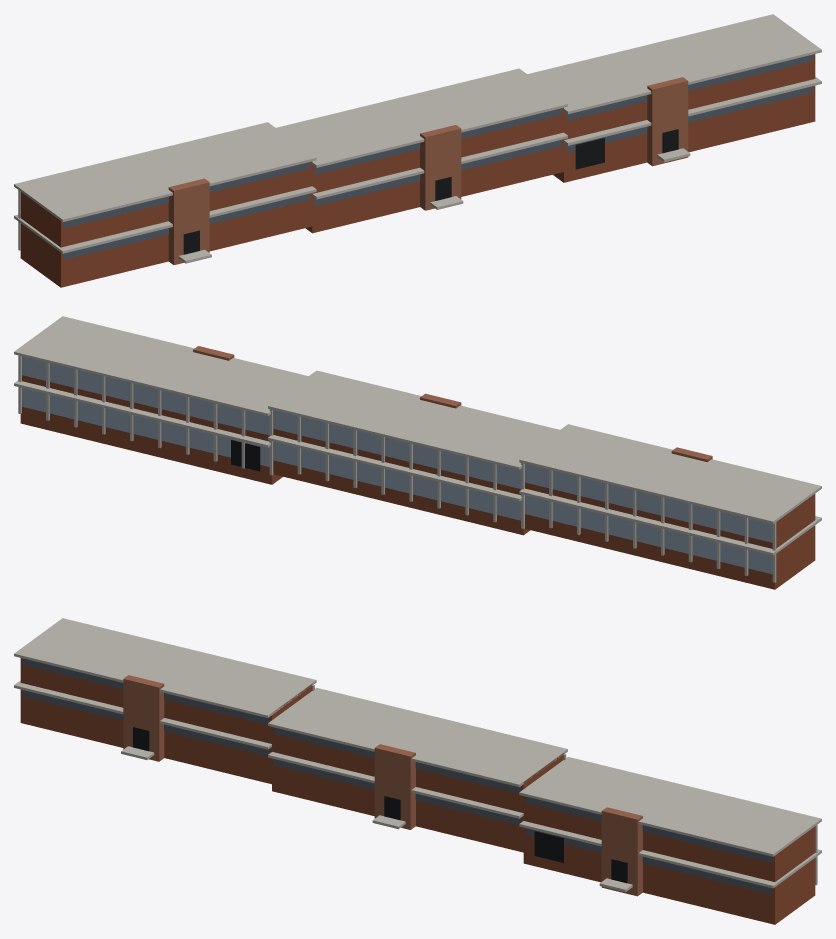
File: lru-south-building-1961.glb
The picture shows the model from 3 angles, top to bottom: view 1: azimuth 30°, elevation 25°; view 2: azimuth 150°, elevation 25°; view 3: azimuth 330°, elevation 25°; orthographic projection.
Parts seen in each view (by area): view 1: lru_south_building_1961; view 2: lru_south_building_1961; view 3: lru_south_building_1961.
Part boxes in pixels (<box>): lru_south_building_1961: <box>14,14,821,287</box>; lru_south_building_1961: <box>14,316,821,589</box>; lru_south_building_1961: <box>14,618,821,924</box>.
Bounding box in the file's own units: 93.11 × 10.79 × 12.04.
